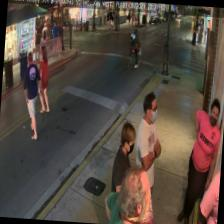person: (176, 95, 222, 224), (128, 90, 164, 224), (102, 163, 157, 224), (107, 120, 137, 224)
